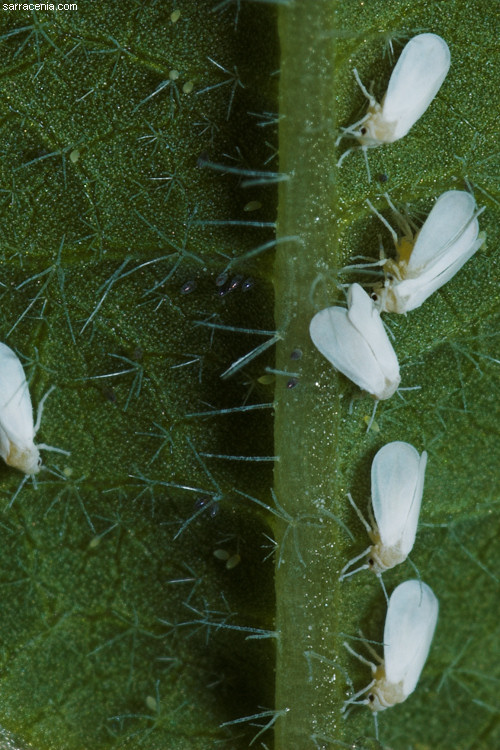whitefly: (307, 281, 418, 433), (340, 33, 450, 184), (344, 578, 439, 738), (343, 440, 428, 603), (360, 221, 489, 317), (359, 193, 489, 285), (1, 344, 72, 512)
